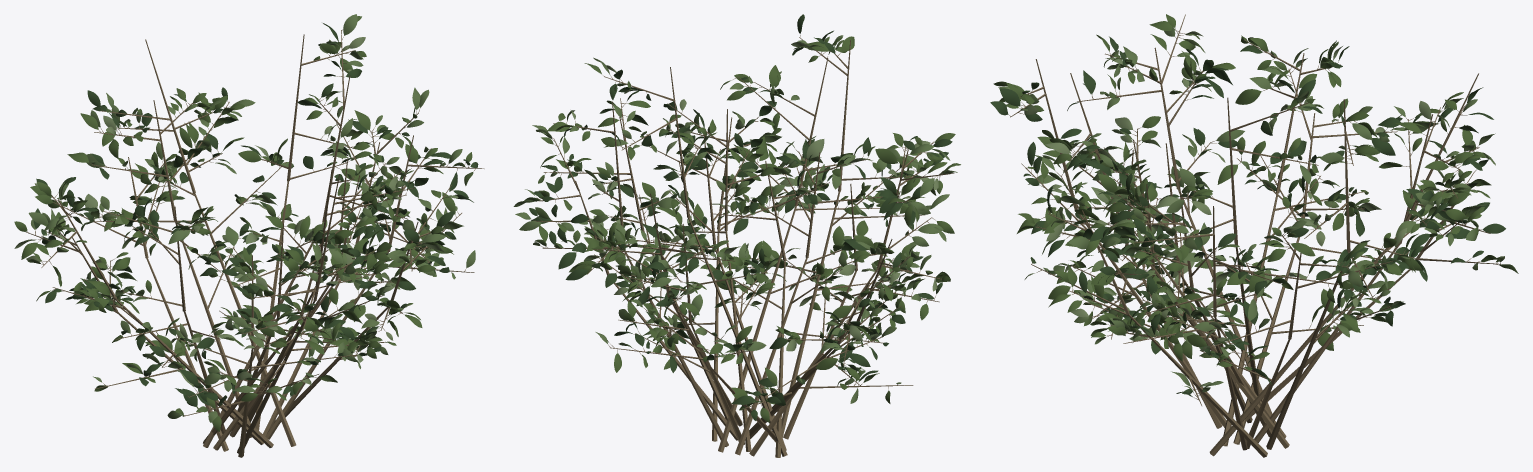
The model's file is verge_fine_shrub.glb.
The picture shows the model from 3 angles, left to right: view 1: azimuth 30°, elevation 25°; view 2: azimuth 150°, elevation 25°; view 3: azimuth 270°, elevation 25°; orthographic projection. The views are drawn at different scales.
Visible parts, largest first — view 1: VergeShrub; view 2: VergeShrub; view 3: VergeShrub.
Boxes of the visible parts, bbox=[...] form: VergeShrub: bbox=[14, 14, 484, 457]; VergeShrub: bbox=[513, 14, 960, 457]; VergeShrub: bbox=[990, 14, 1518, 457].
Bounding box in the file's own units: 1.45 × 1.25 × 1.42.
